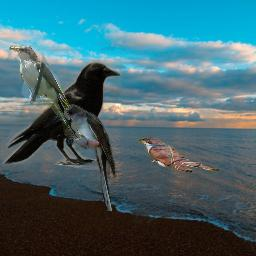Crow: (1, 59, 122, 170)
Cuckoo: (52, 104, 117, 211), (9, 45, 81, 140), (136, 135, 222, 176)
